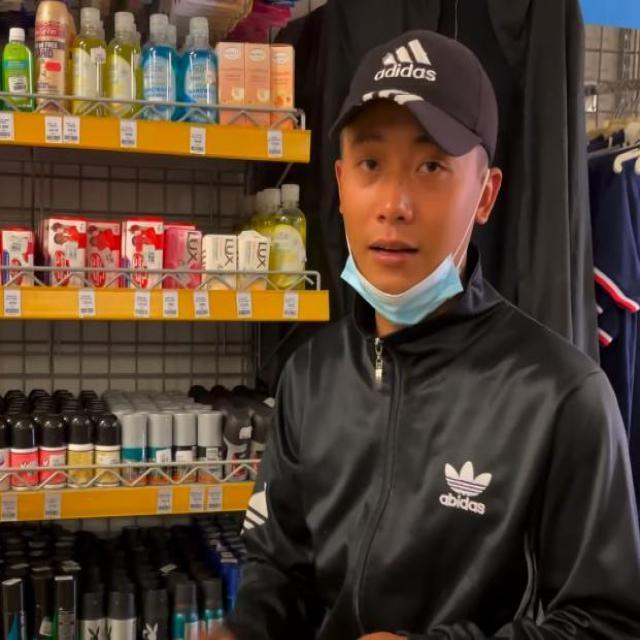hairnet: (342, 132, 467, 322)
